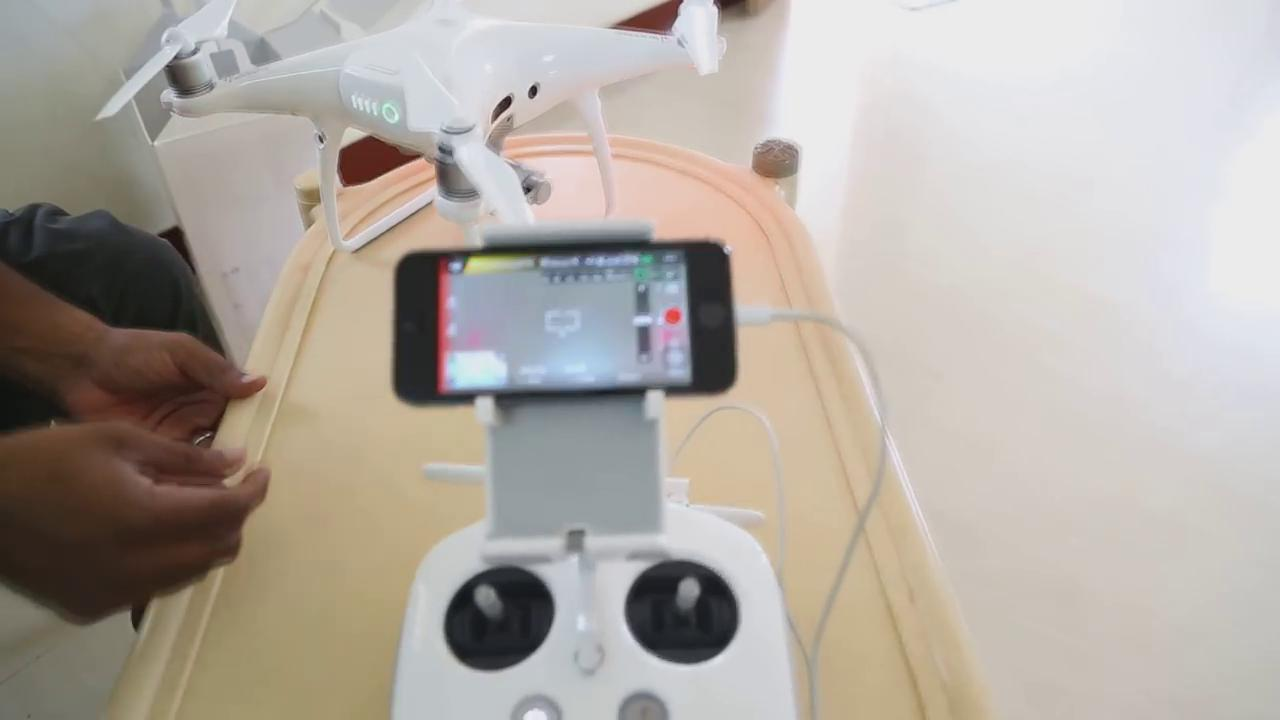drone: (90, 1, 747, 300)
